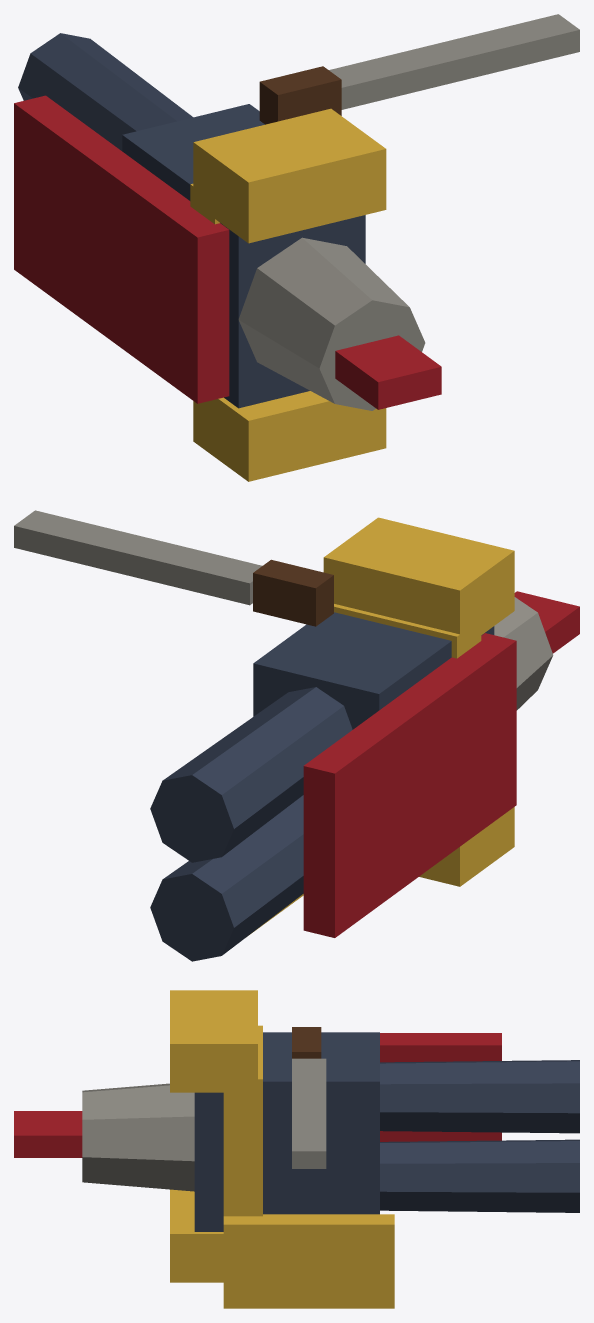
File: SM_UnitKnight.obj
The picture shows the model from 3 angles, top to bottom: view 1: azimuth 30°, elevation 25°; view 2: azimuth 150°, elevation 25°; view 3: azimuth 270°, elevation 25°; orthographic projection. The views are drawn at different scales.
Visible parts, largest first — view 1: SM_UnitKnight_crimson, SM_UnitKnight_gold, SM_UnitKnight_stone, SM_UnitKnight_slate, SM_UnitKnight_timber; view 2: SM_UnitKnight_slate, SM_UnitKnight_crimson, SM_UnitKnight_gold, SM_UnitKnight_stone, SM_UnitKnight_timber; view 3: SM_UnitKnight_slate, SM_UnitKnight_gold, SM_UnitKnight_stone, SM_UnitKnight_crimson, SM_UnitKnight_timber.
Boxes of the visible parts, x1,y1,x2,y2 form: SM_UnitKnight_crimson: (14,95,441,409); SM_UnitKnight_gold: (190,108,386,481); SM_UnitKnight_stone: (238,14,579,410); SM_UnitKnight_slate: (18,33,365,408); SM_UnitKnight_timber: (259,66,341,124); SM_UnitKnight_slate: (150,612,494,961); SM_UnitKnight_crimson: (303,591,579,937); SM_UnitKnight_gold: (250,517,514,934); SM_UnitKnight_stone: (14,510,553,710); SM_UnitKnight_timber: (253,559,333,626); SM_UnitKnight_slate: (194,1032,579,1231); SM_UnitKnight_gold: (170,990,394,1308); SM_UnitKnight_stone: (82,1058,326,1191); SM_UnitKnight_crimson: (14,1033,501,1157); SM_UnitKnight_timber: (292,1027,321,1058).
Size of the model in its own units: 164 by 118 by 232.
